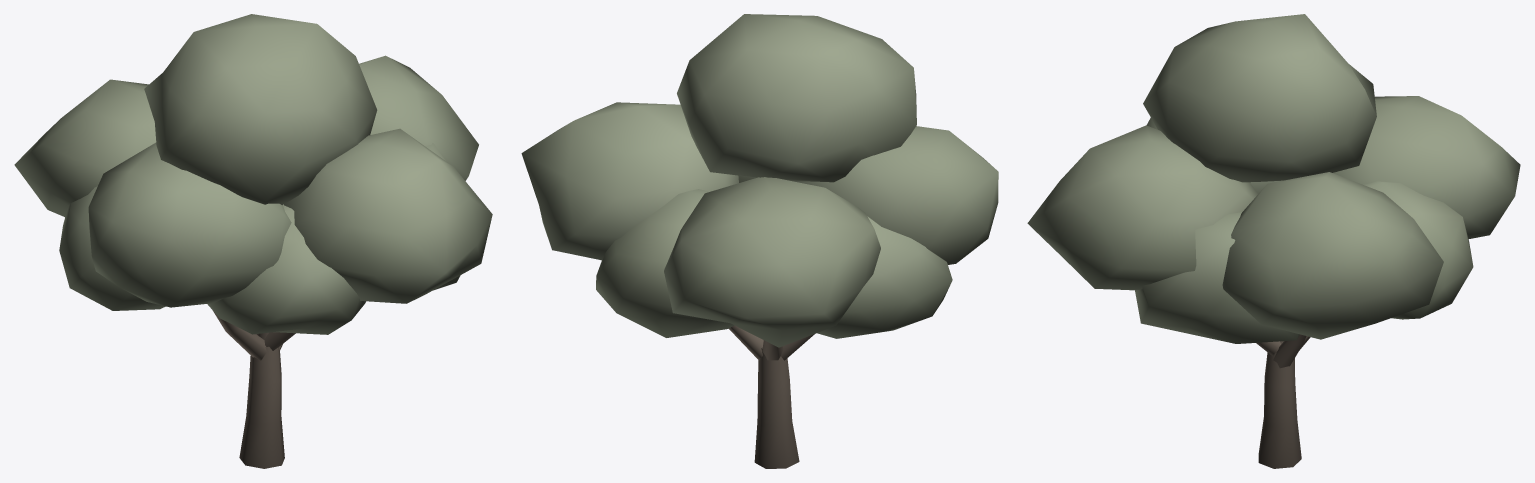
Rendered from oak.glb.
The picture shows the model from 3 angles, left to right: view 1: azimuth 30°, elevation 25°; view 2: azimuth 150°, elevation 25°; view 3: azimuth 270°, elevation 25°; orthographic projection. The views are drawn at different scales.
Parts seen in each view (by area): view 1: oak; view 2: oak; view 3: oak.
Boxes of the visible parts, box(x1,y1,x2,y2) form: oak: box(14, 14, 492, 468); oak: box(521, 14, 998, 468); oak: box(1027, 14, 1520, 468).
Bounding box in the file's own units: 13.5 × 13.98 × 14.53.
